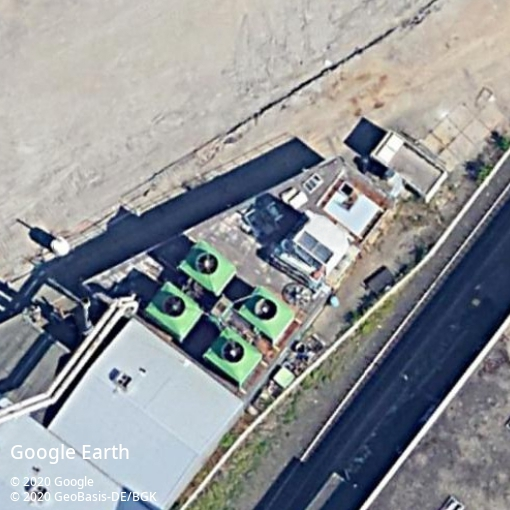Vent: (195, 252, 220, 276), (220, 339, 245, 363), (162, 295, 187, 318), (254, 298, 278, 321)
